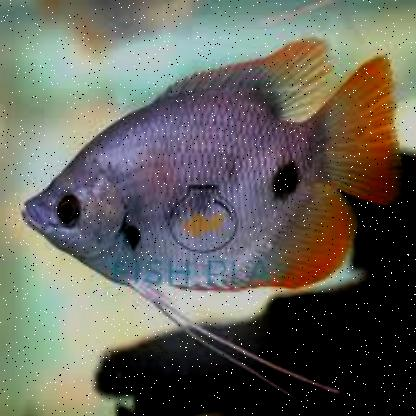gurame: (19, 46, 388, 292)
